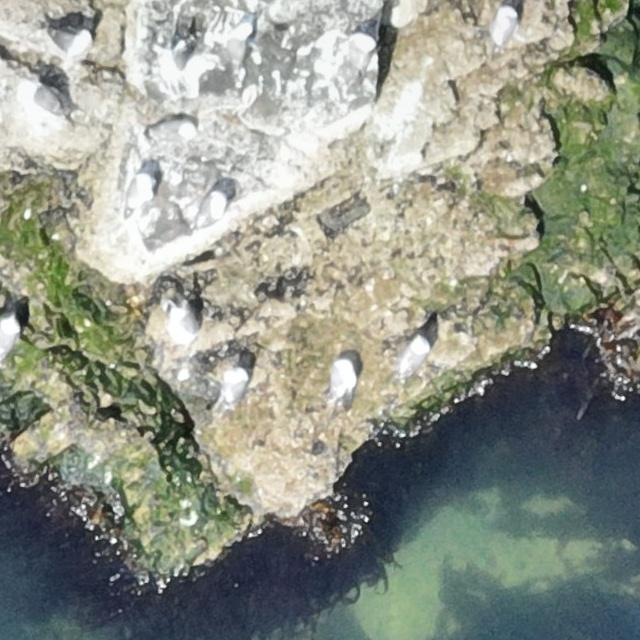umineko: (16, 80, 66, 121), (164, 296, 202, 346), (347, 31, 379, 86), (326, 358, 359, 406), (399, 334, 428, 382), (150, 118, 199, 146), (47, 24, 91, 54), (228, 23, 252, 78), (193, 191, 226, 229), (125, 172, 153, 214), (160, 48, 196, 80), (220, 368, 248, 408), (492, 6, 518, 46), (0, 313, 21, 352)
